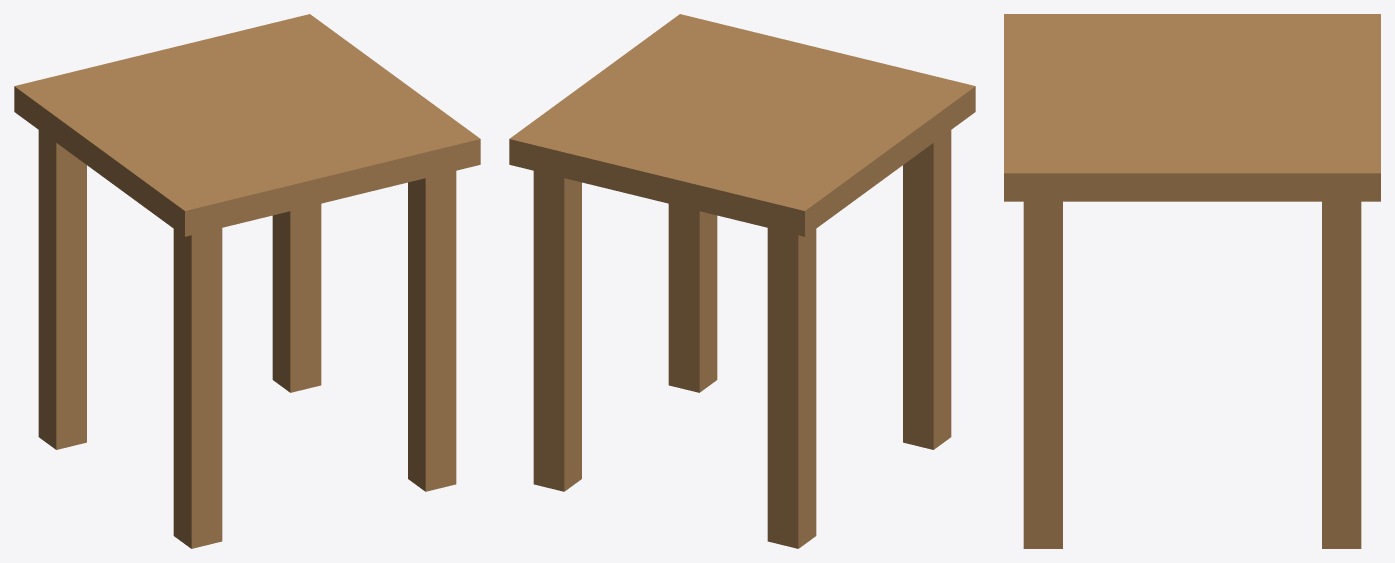
3 views of the same model, side by side, from view 1: azimuth 30°, elevation 25°; view 2: azimuth 150°, elevation 25°; view 3: azimuth 270°, elevation 25° (orthographic). The views are drawn at different scales.
Visible parts, largest first — view 1: mesa_lounge_ne; view 2: mesa_lounge_ne; view 3: mesa_lounge_ne.
Boxes of the visible parts, x1,y1,x2,y2 form: mesa_lounge_ne: (14, 14, 480, 548); mesa_lounge_ne: (509, 14, 975, 548); mesa_lounge_ne: (1004, 14, 1380, 548).
Size of the model in its own units: 0.48 by 0.48 by 0.54.
